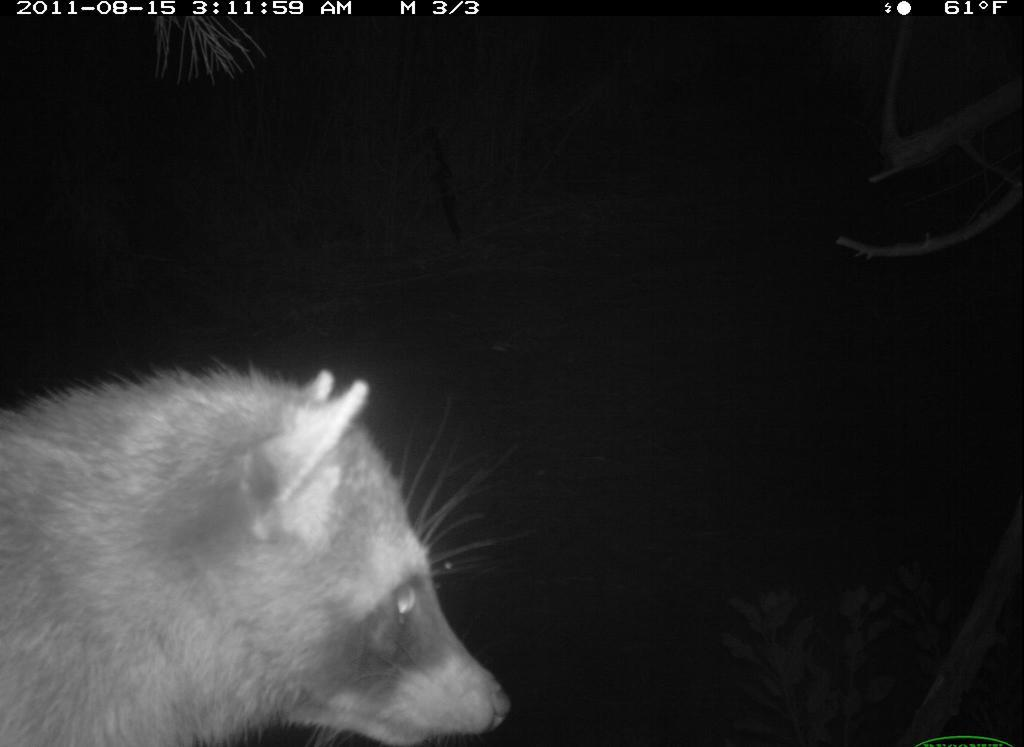raccoon: (1, 336, 532, 747)
